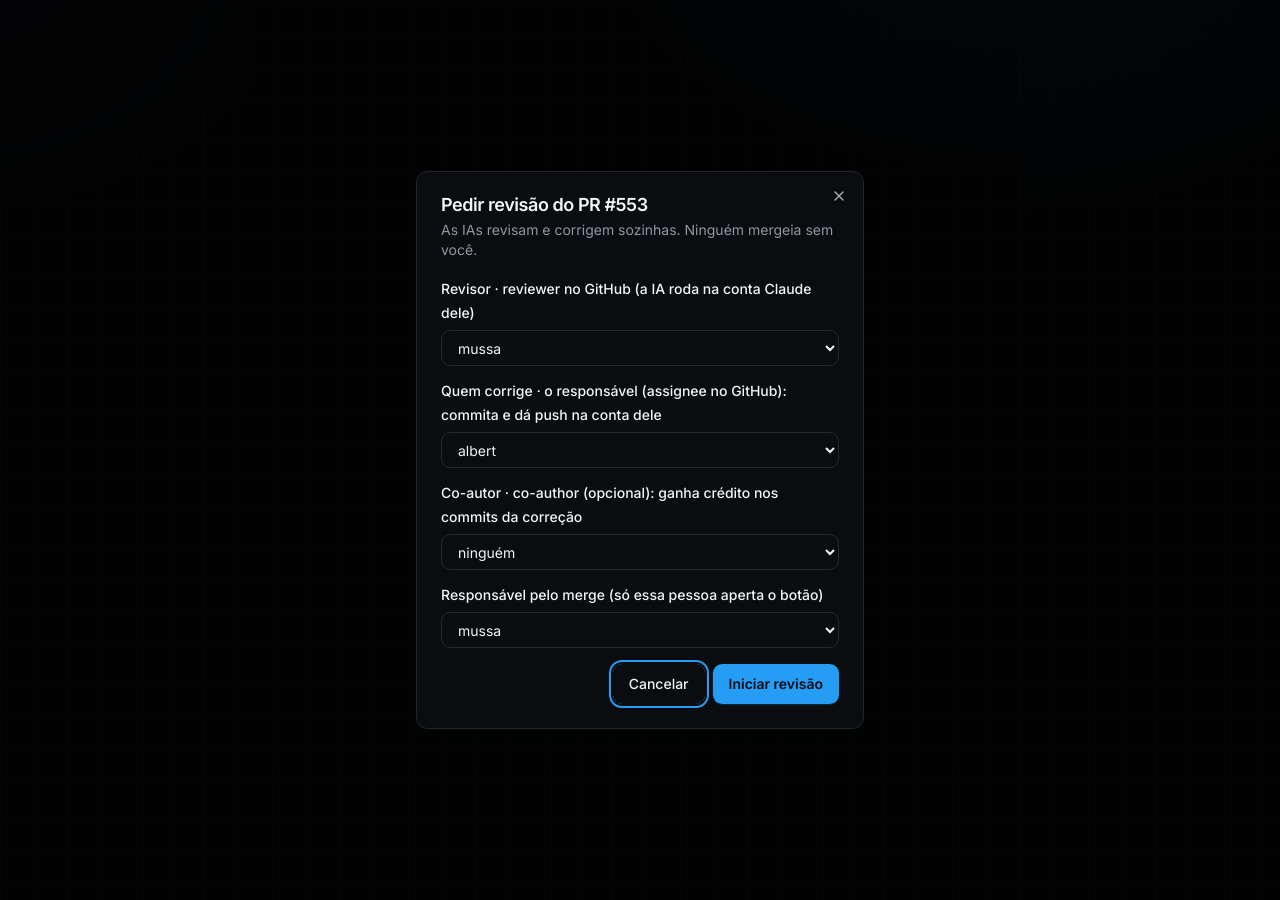
it: RequestReviewDialog › server refusal revisor_sem_conta: o revisor não tem uma conta Claude própria no vibehub shows inline and keeps the dialog open
Expected: the dropdown labelled "Revisor" is shown, [441,330,839,366]
Click the button "Iniciar revisão": (776, 684) [712,664,839,704]
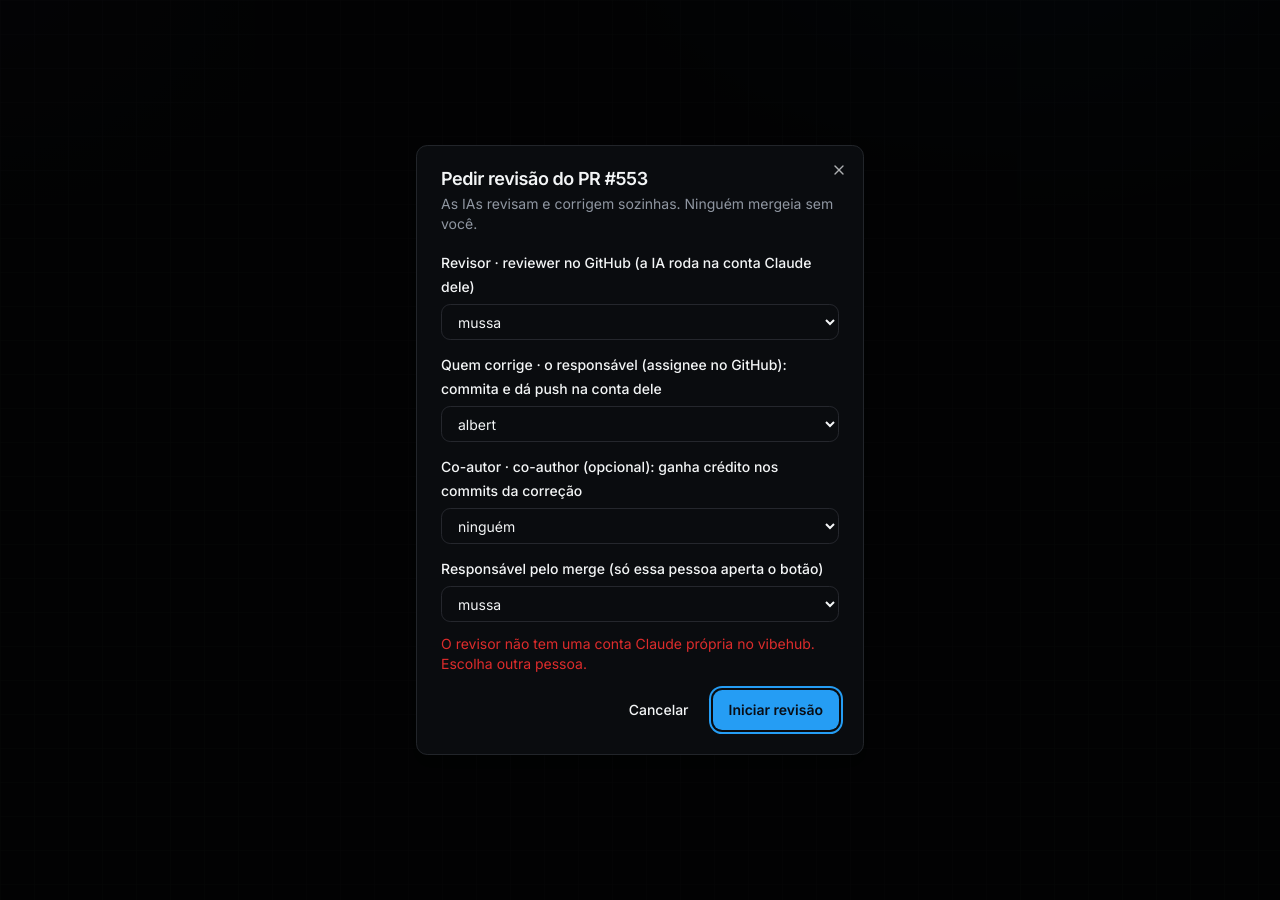
Expected: the button "Iniciar revisão" is enabled, [712,690,839,730]
Expected: the message shows "não tem uma conta Claude própria", [441,635,815,672]
